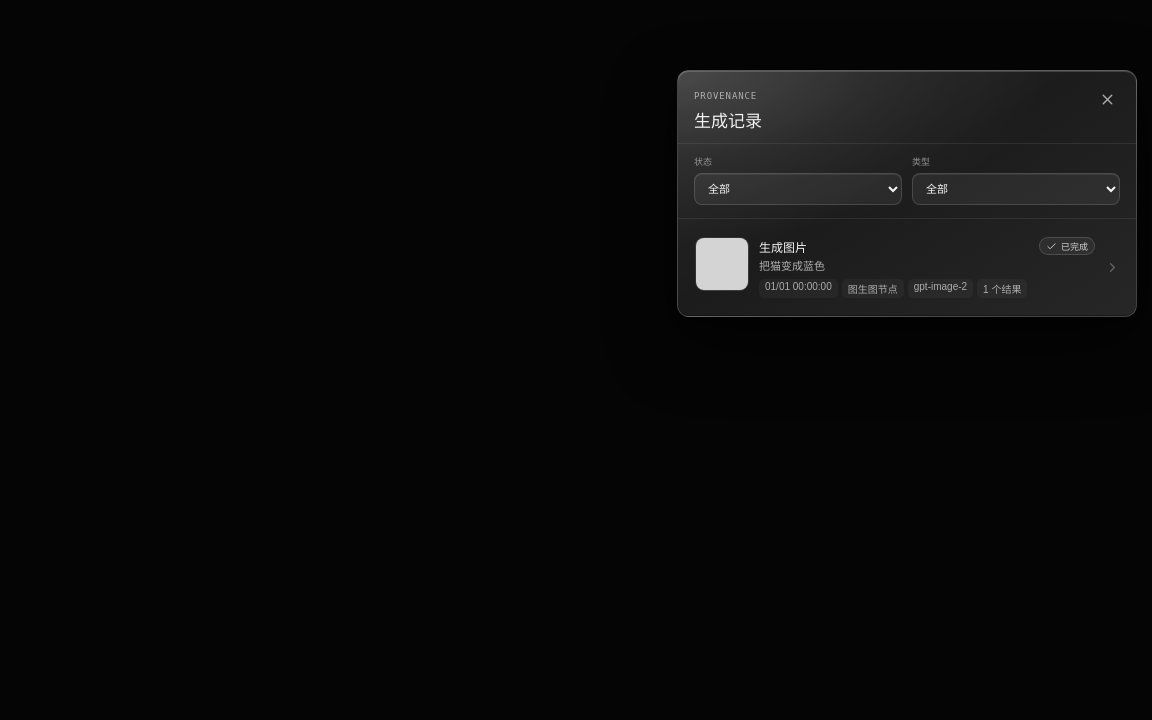
Test: GenerationRecordsPanel › opens a provenance detail with source, node, and result
Click the button "生成图片 已完成 把猫变成蓝色 01/01 00:00:00 图生图节点 gpt-image-2 1 个结果".
click(722, 264)  # box [686,227,1128,308]
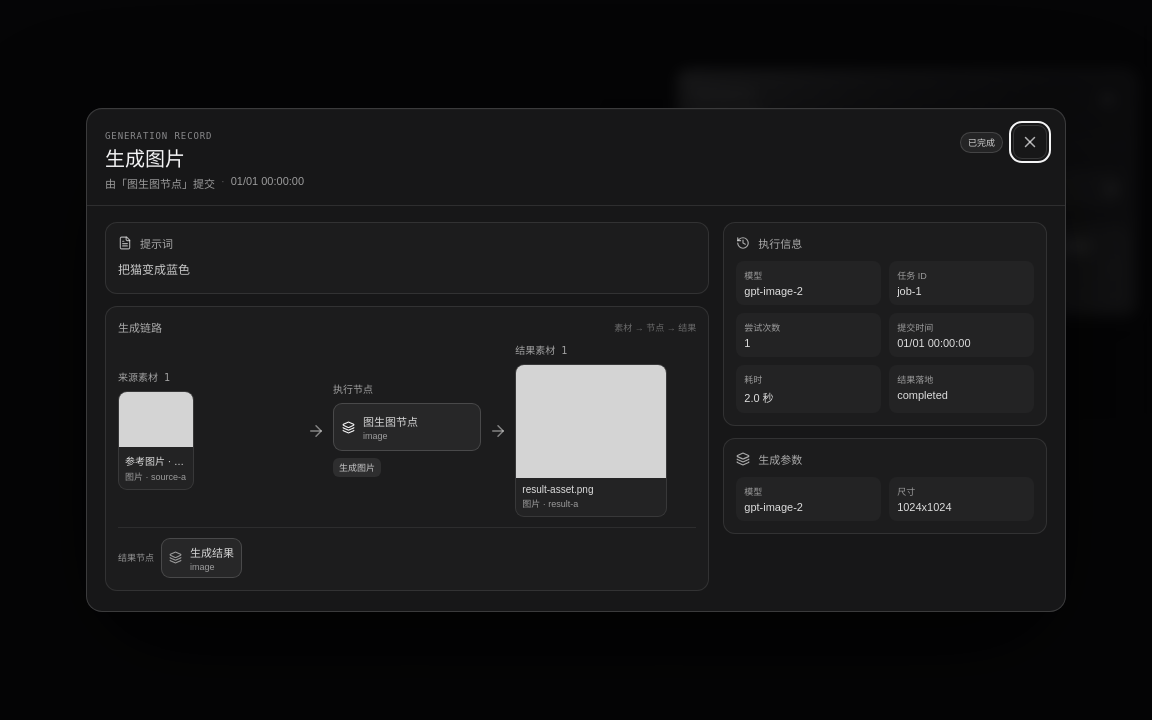
expect the text "生成链路" is shown: met, box [118,319,162,335]
expect the text "来源素材 1" is shown: met, box [118,372,170,383]
expect the text "结果素材 1" is shown: met, box [515,345,567,356]
